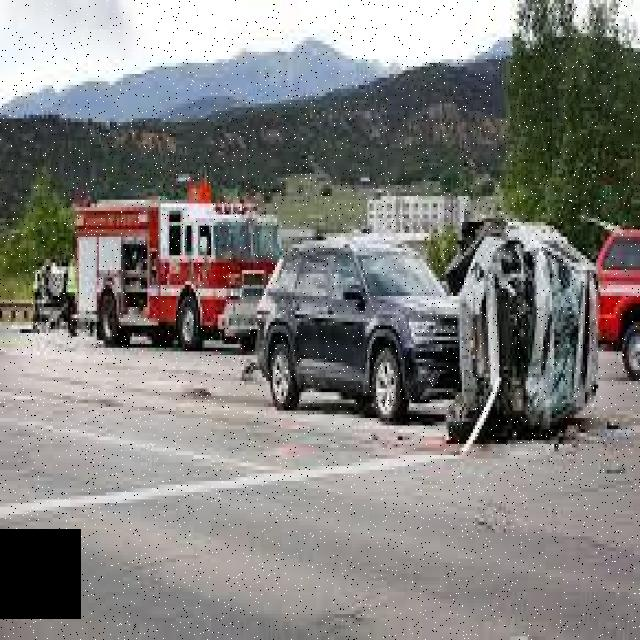severe: (250, 220, 602, 446)
